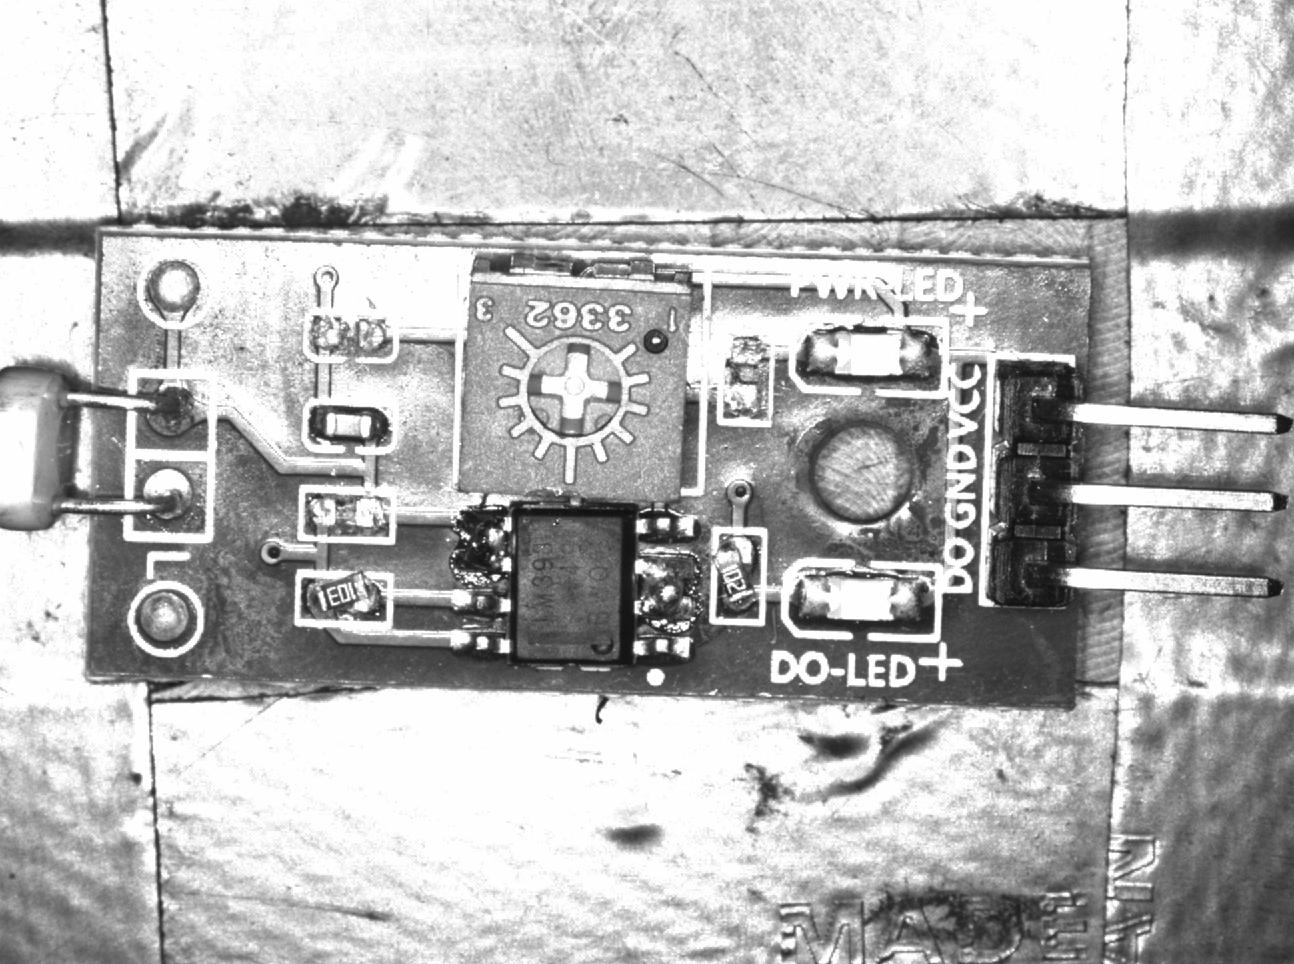bridge: (633, 547, 700, 624), (452, 504, 512, 580)
lifted: (297, 571, 391, 626), (712, 526, 763, 619)
miss: (306, 309, 398, 364), (721, 325, 771, 426), (300, 488, 392, 540)
ok: (307, 401, 395, 450)
